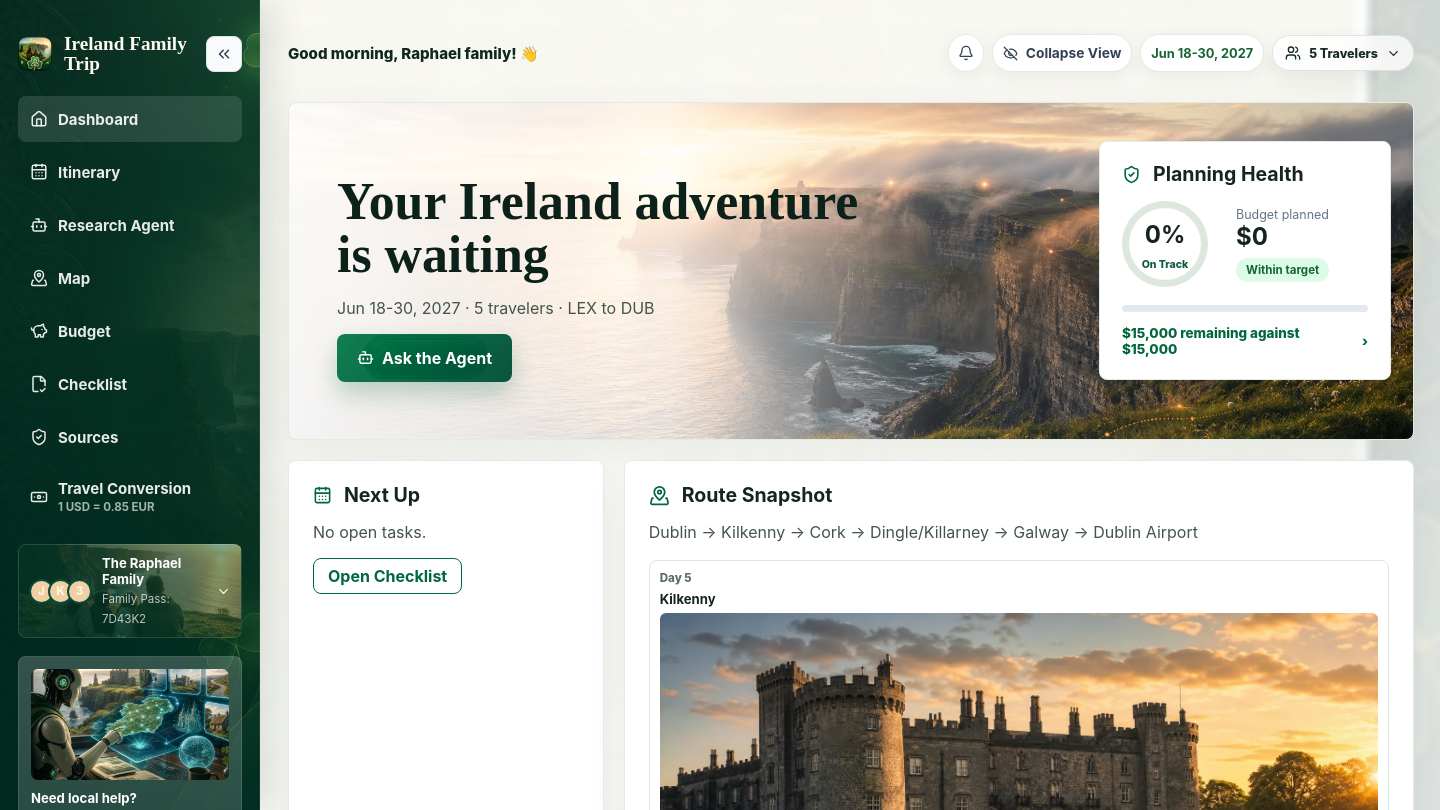
Test case: Ireland trip app › renders payment guidance chips at the bottom of itinerary day cards
The image size is (1440, 810).
expect the text "Ireland Family Trip" is shown: met, box 64,34 -> 192,74
Click the button "Itinerary" at (130, 172), box 18,149 -> 242,195
(page scrolled)
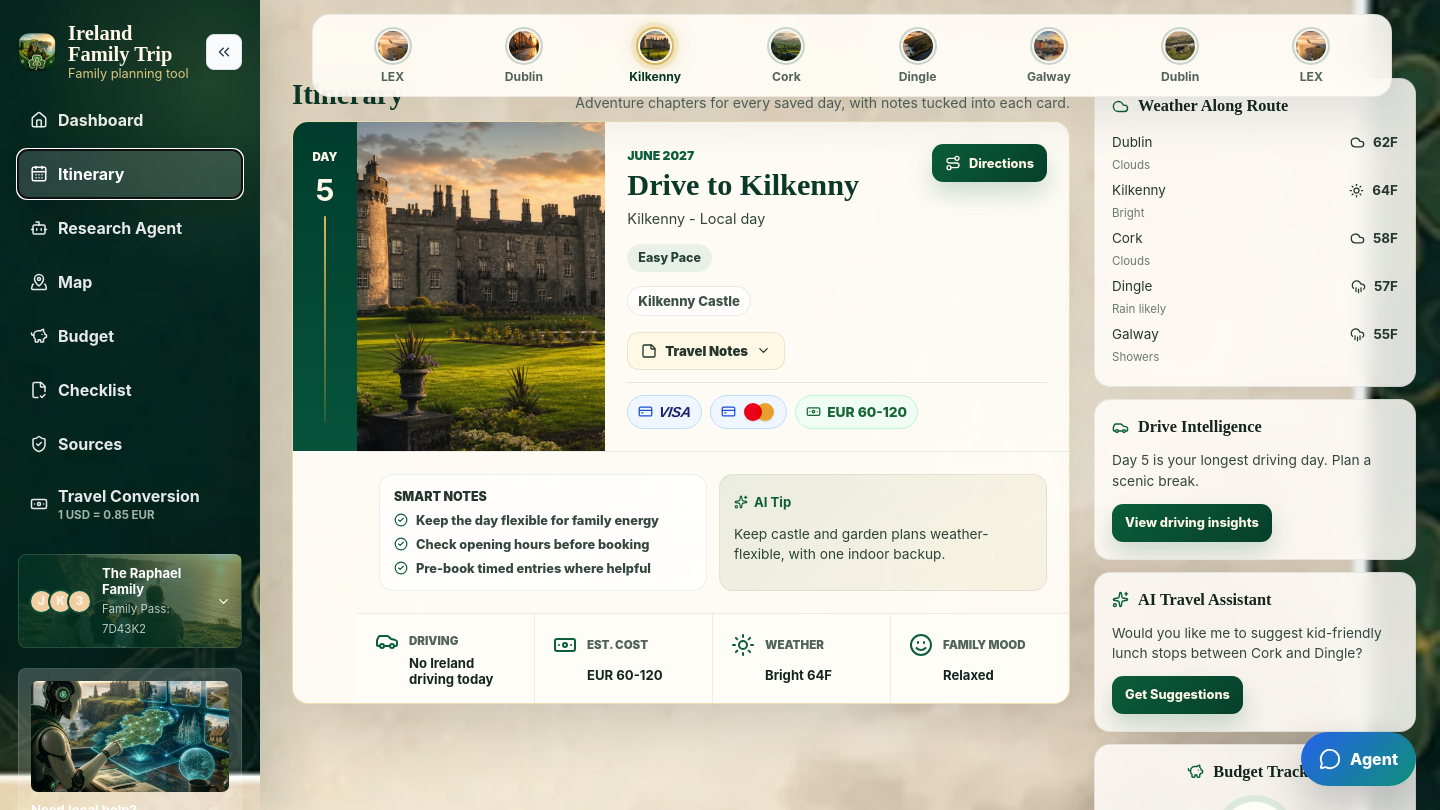
expect the element named "Recommended payment methods for day 5" shows "VISA": met, box 658,404 -> 692,420
expect the element named "Mastercard: Backup card" is shown: met, box 710,395 -> 787,429
expect the element named "Recommended payment methods for day 5" shows "EUR 60-120": met, box 827,404 -> 907,420
